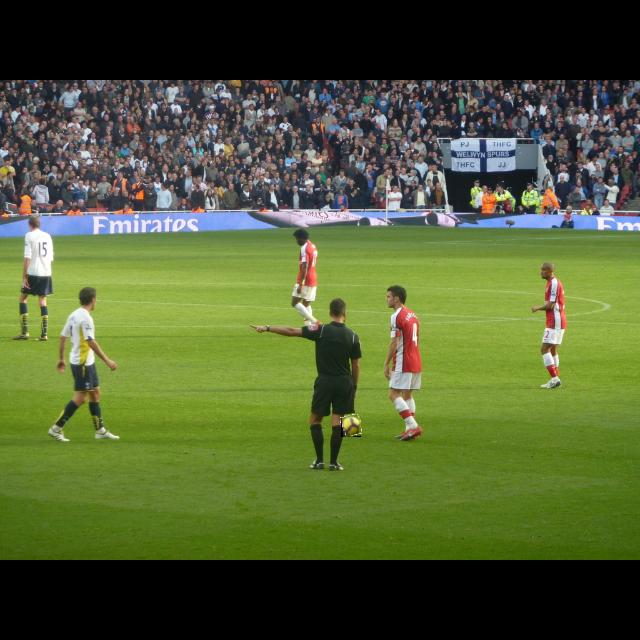Football: (341, 415, 361, 437)
